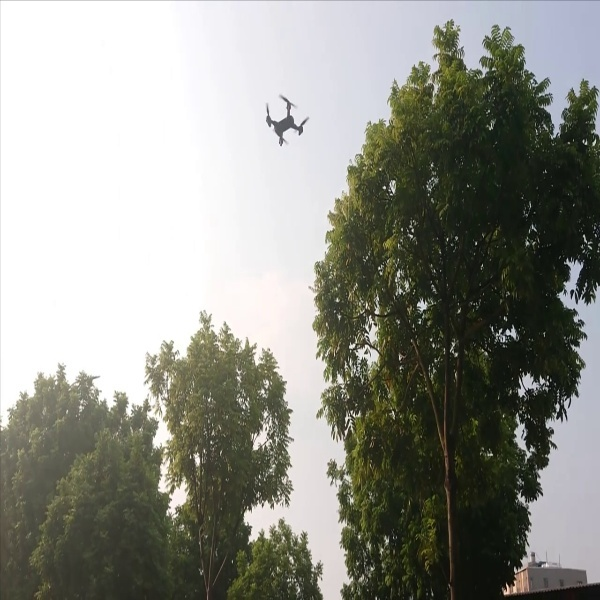drone: (257, 90, 311, 149)
